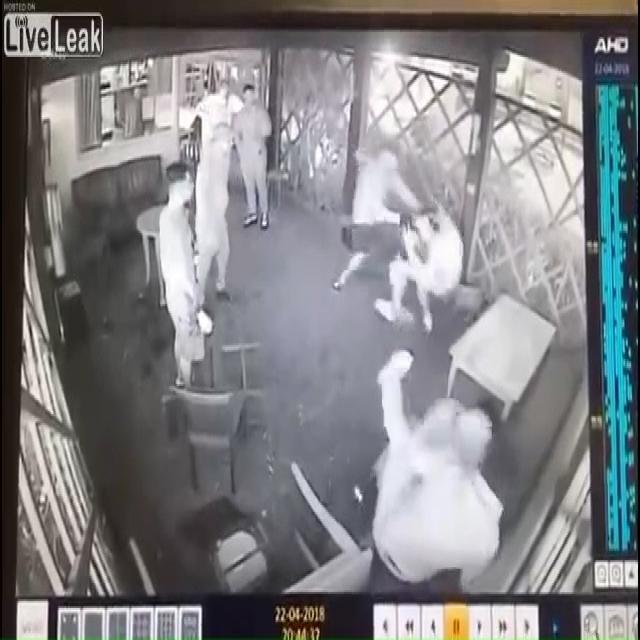fight: (324, 336, 520, 578), (338, 133, 480, 323)
